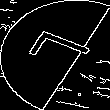L_SE: (16, 30, 94, 80)
